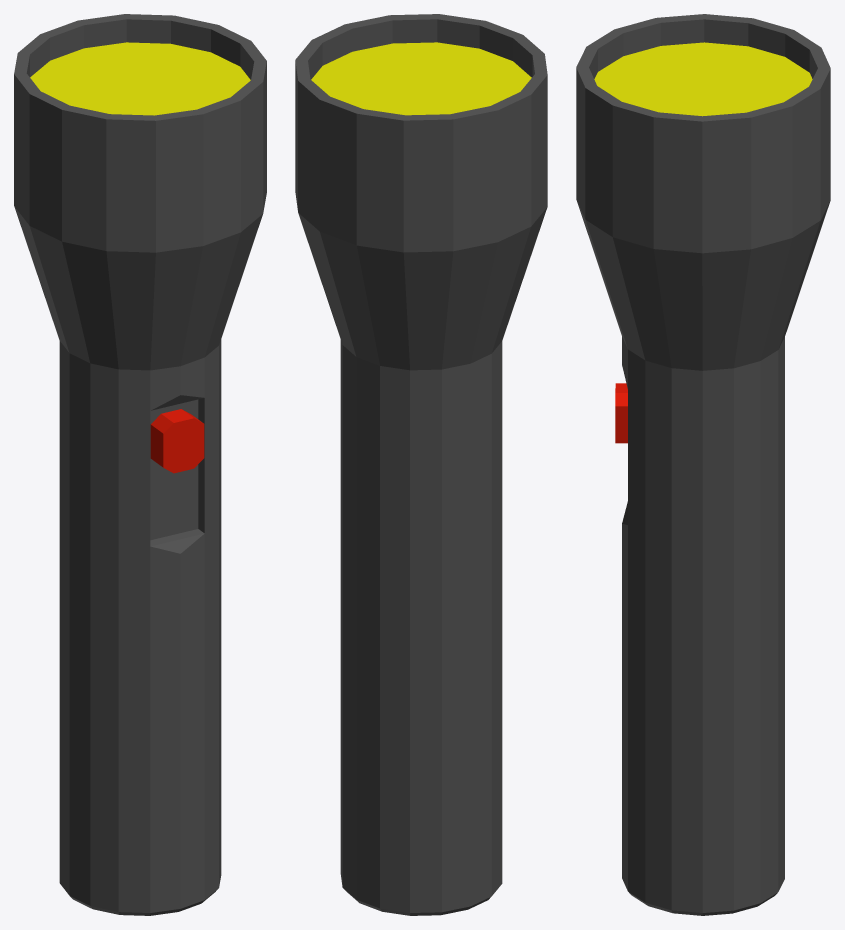
The model's file is fleshlight.fbx.
3 renders of one model, left to right at view 1: azimuth 30°, elevation 25°; view 2: azimuth 150°, elevation 25°; view 3: azimuth 270°, elevation 25°, orthographic.
Visible parts, largest first — view 1: Flashlight; view 2: Flashlight; view 3: Flashlight.
Boxes of the visible parts, bbox=[...] form: Flashlight: bbox=[14, 14, 266, 915]; Flashlight: bbox=[295, 14, 547, 915]; Flashlight: bbox=[576, 14, 830, 915].
Bounding box in the file's own units: 200 × 707 × 200.
